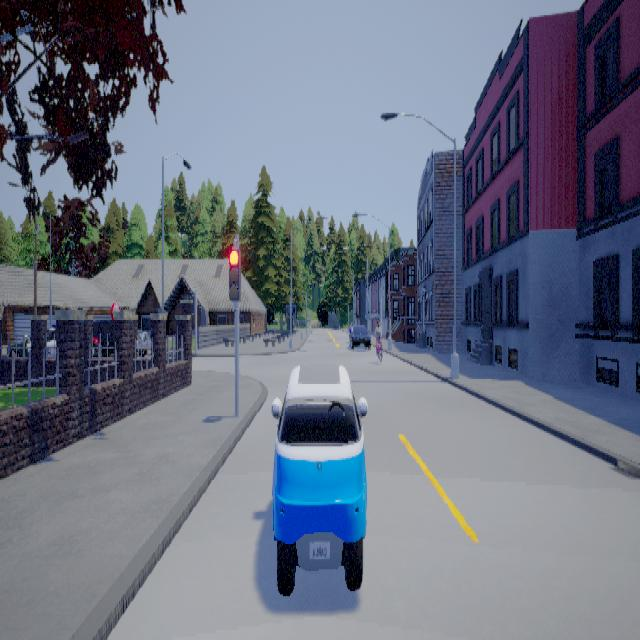bike: (376, 317, 386, 362)
red_light: (230, 237, 242, 310)
vehicle: (273, 362, 370, 595), (349, 323, 372, 349)
